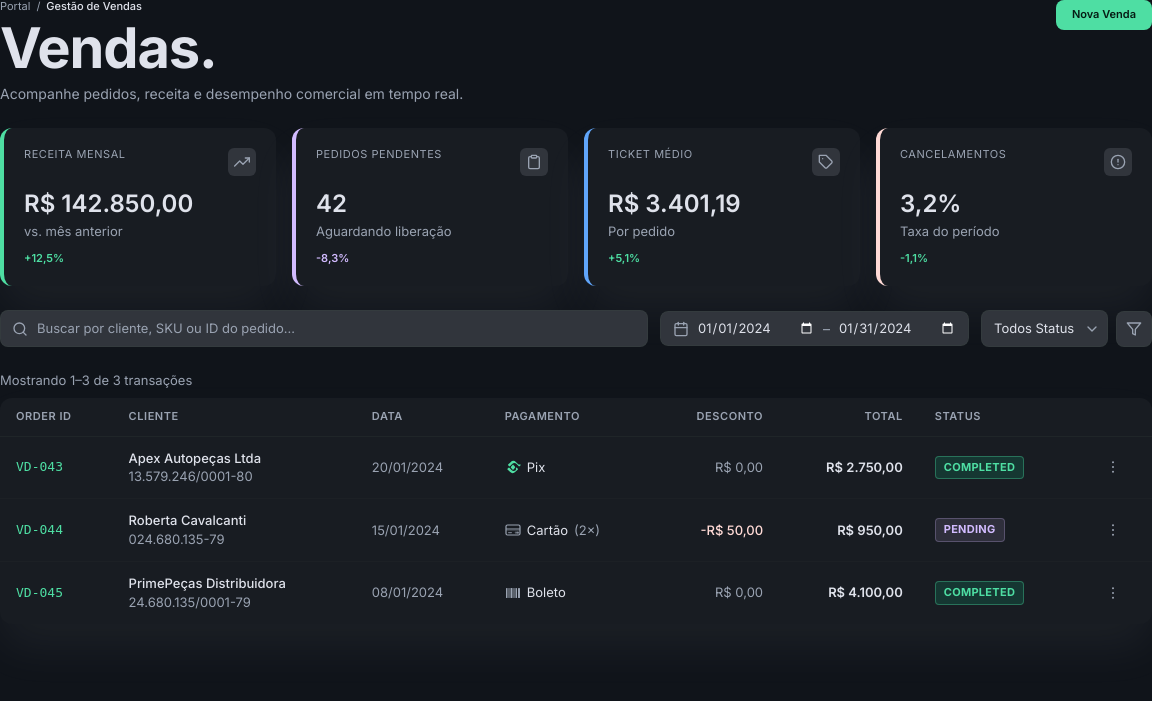
Test: SalesPage — 3.x Filtros (integração) › 3.2 expandir dateTo para março aumenta a contagem de registros
The image size is (1152, 701).
Expected: the text "Mostrando 1–3 de 3 transações" is shown, top-left (0, 372), bottom-right (192, 388)
Type "2024-03-31" into the date field named "Data final" at (897, 328), box top-left (838, 319), bottom-right (956, 338)
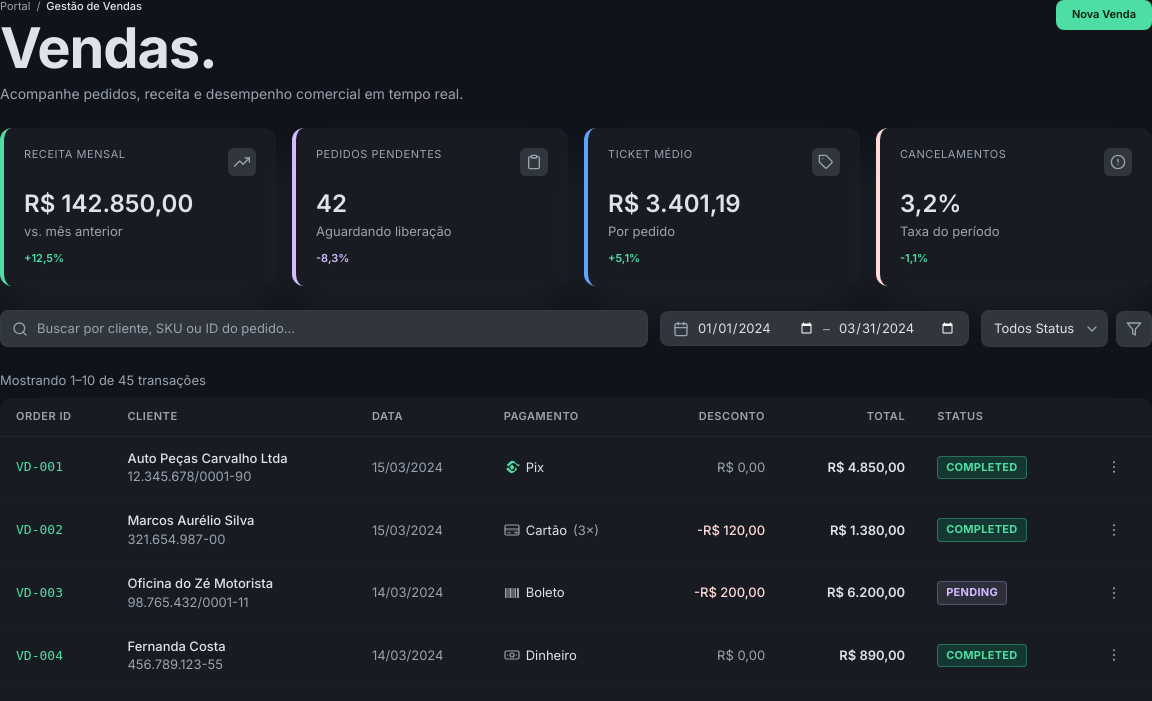
Now the text "de 3 transa" is gone
Now the text "Mostrando 1–10 de 45 transações" is shown, box top-left (0, 372), bottom-right (206, 388)
